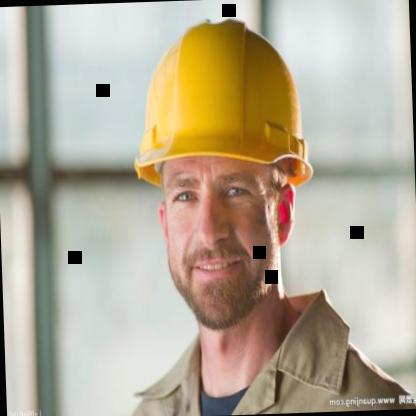helmet: (107, 0, 340, 370)
